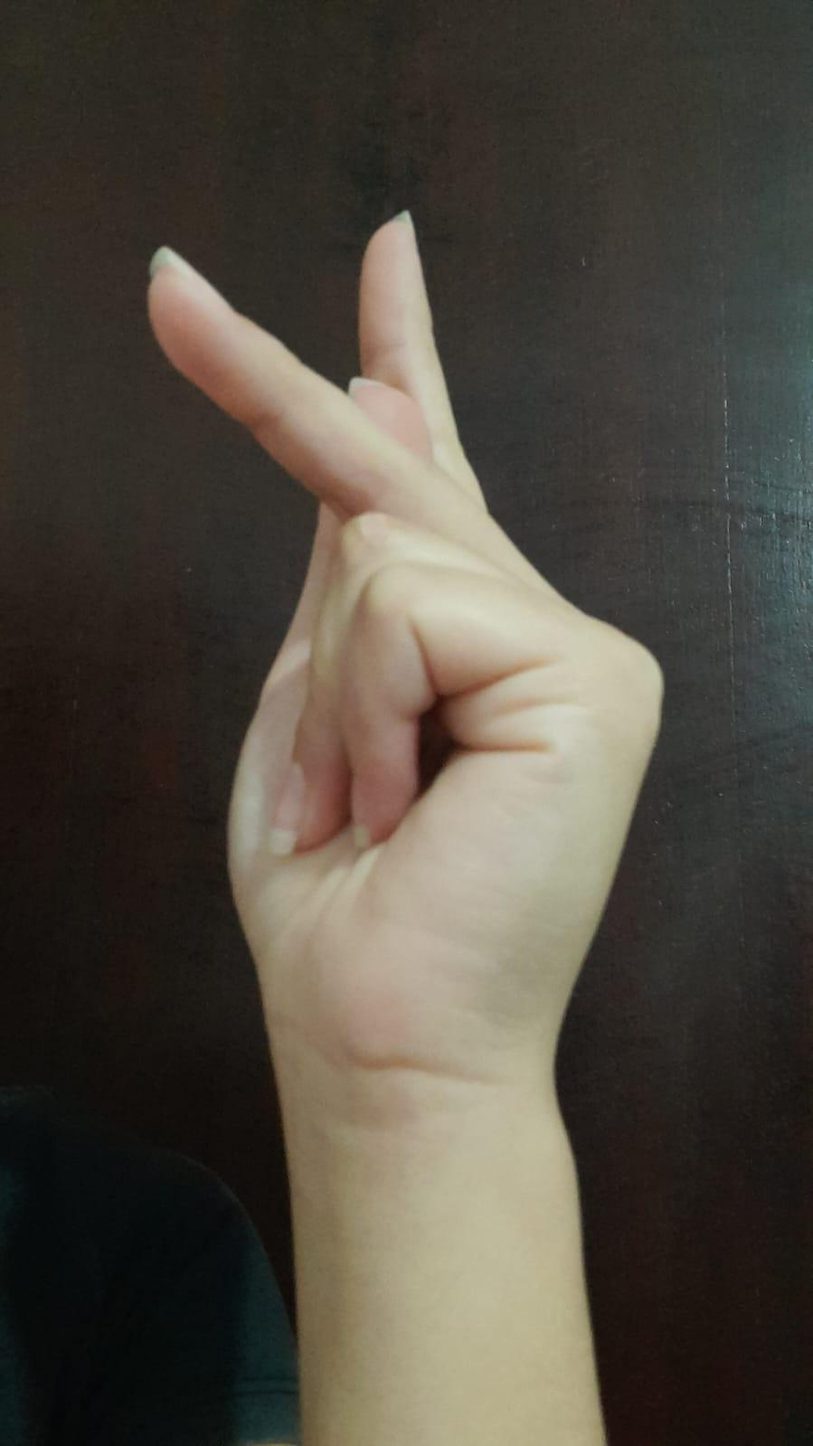K: (122, 145, 683, 1072)
